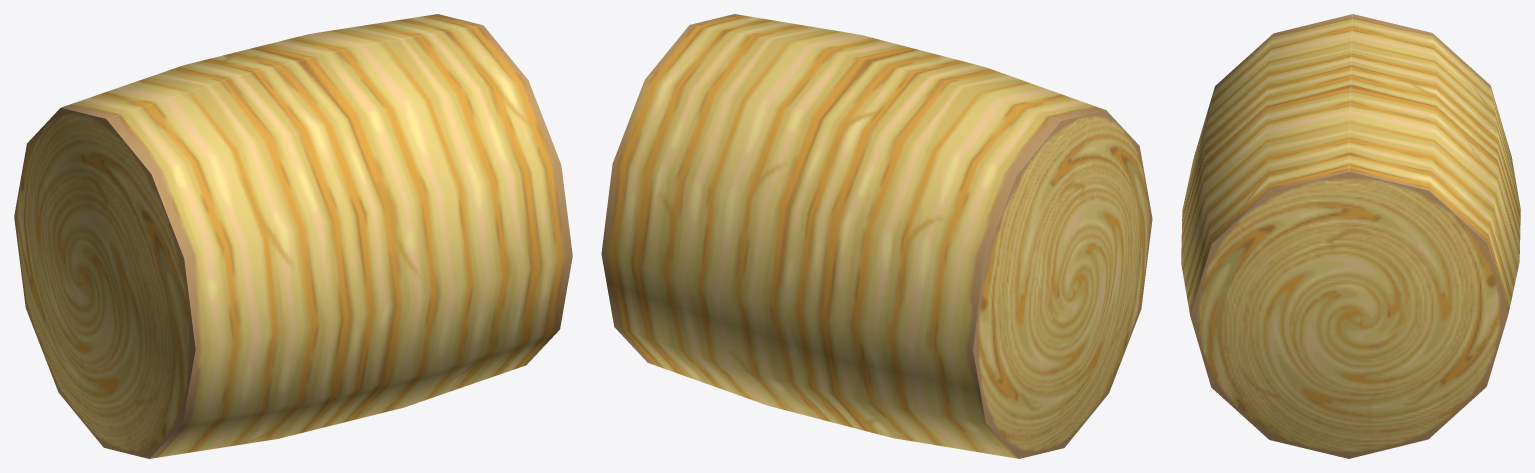
The model's file is Haystack_01.FBX.
3 views of the same model, side by side, from view 1: azimuth 30°, elevation 25°; view 2: azimuth 150°, elevation 25°; view 3: azimuth 270°, elevation 25° (orthographic). The views are drawn at different scales.
Visible parts, largest first — view 1: Haystack_01; view 2: Haystack_01; view 3: Haystack_01.
Boxes of the visible parts, x1,y1,x2,y2 form: Haystack_01: (14, 14, 572, 458); Haystack_01: (601, 14, 1152, 458); Haystack_01: (1181, 14, 1520, 458).
Size of the model in its own units: 2.75 by 2.21 by 2.21.
